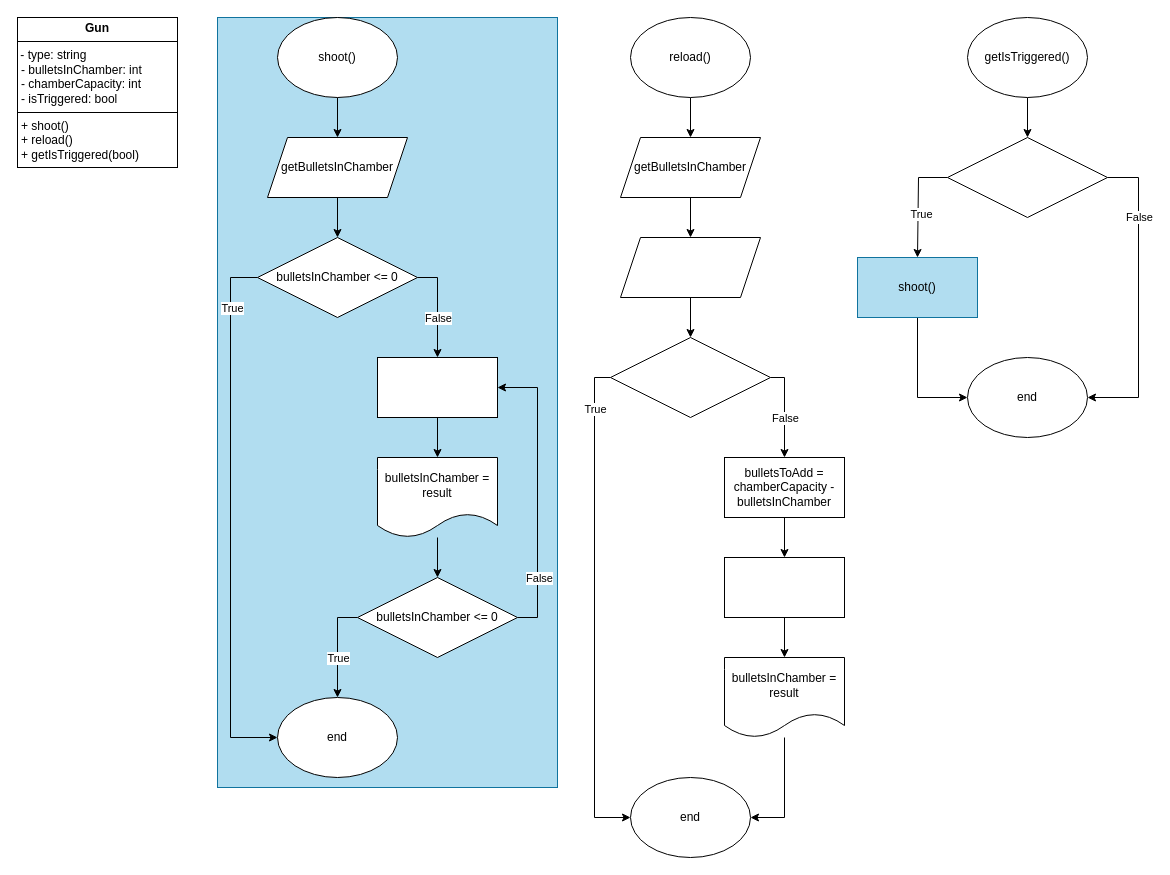
Image size: 1170x875. Some labels were removed from this diagram. Here are the shapes that lost their labels. From the top down, the centre of each, then its label:
At point (1027, 177): "isTriggered".
At point (690, 267): "getChamberCapacity".
At point (437, 387): "result = bulletsInChamber - 1".
At point (690, 377): "bulletsInChamber >= chamberCapacity".
At point (784, 587): "result = bulletsInChamber + bulletsToAdd".
